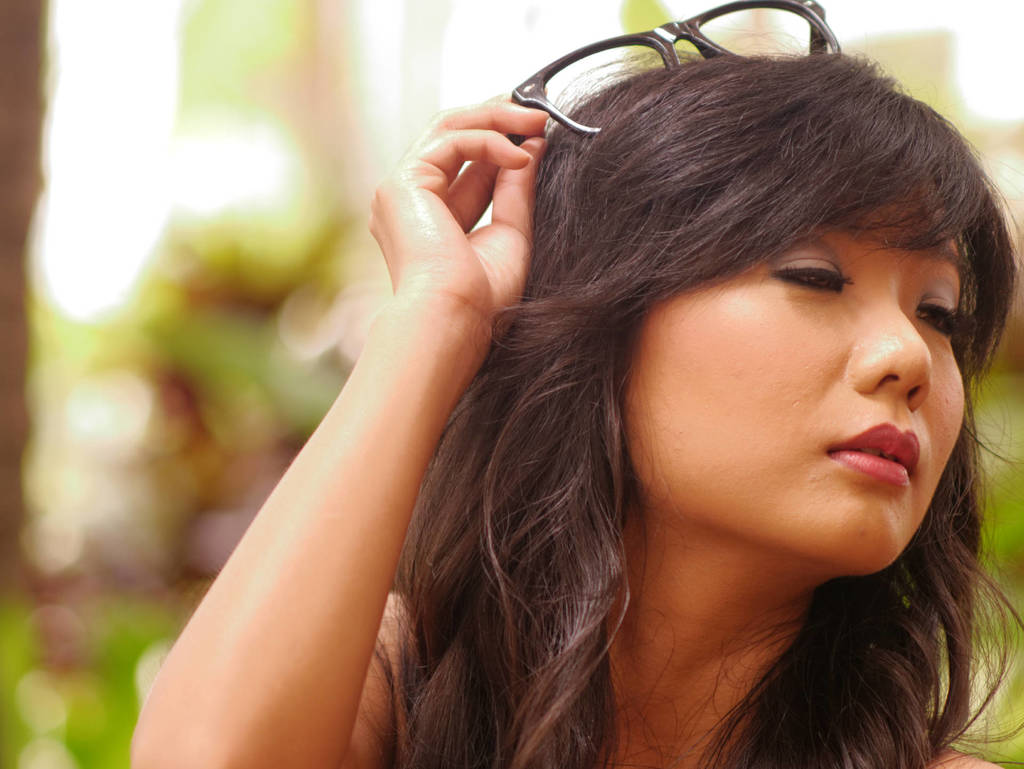Human_hand: (347, 60, 589, 468)
